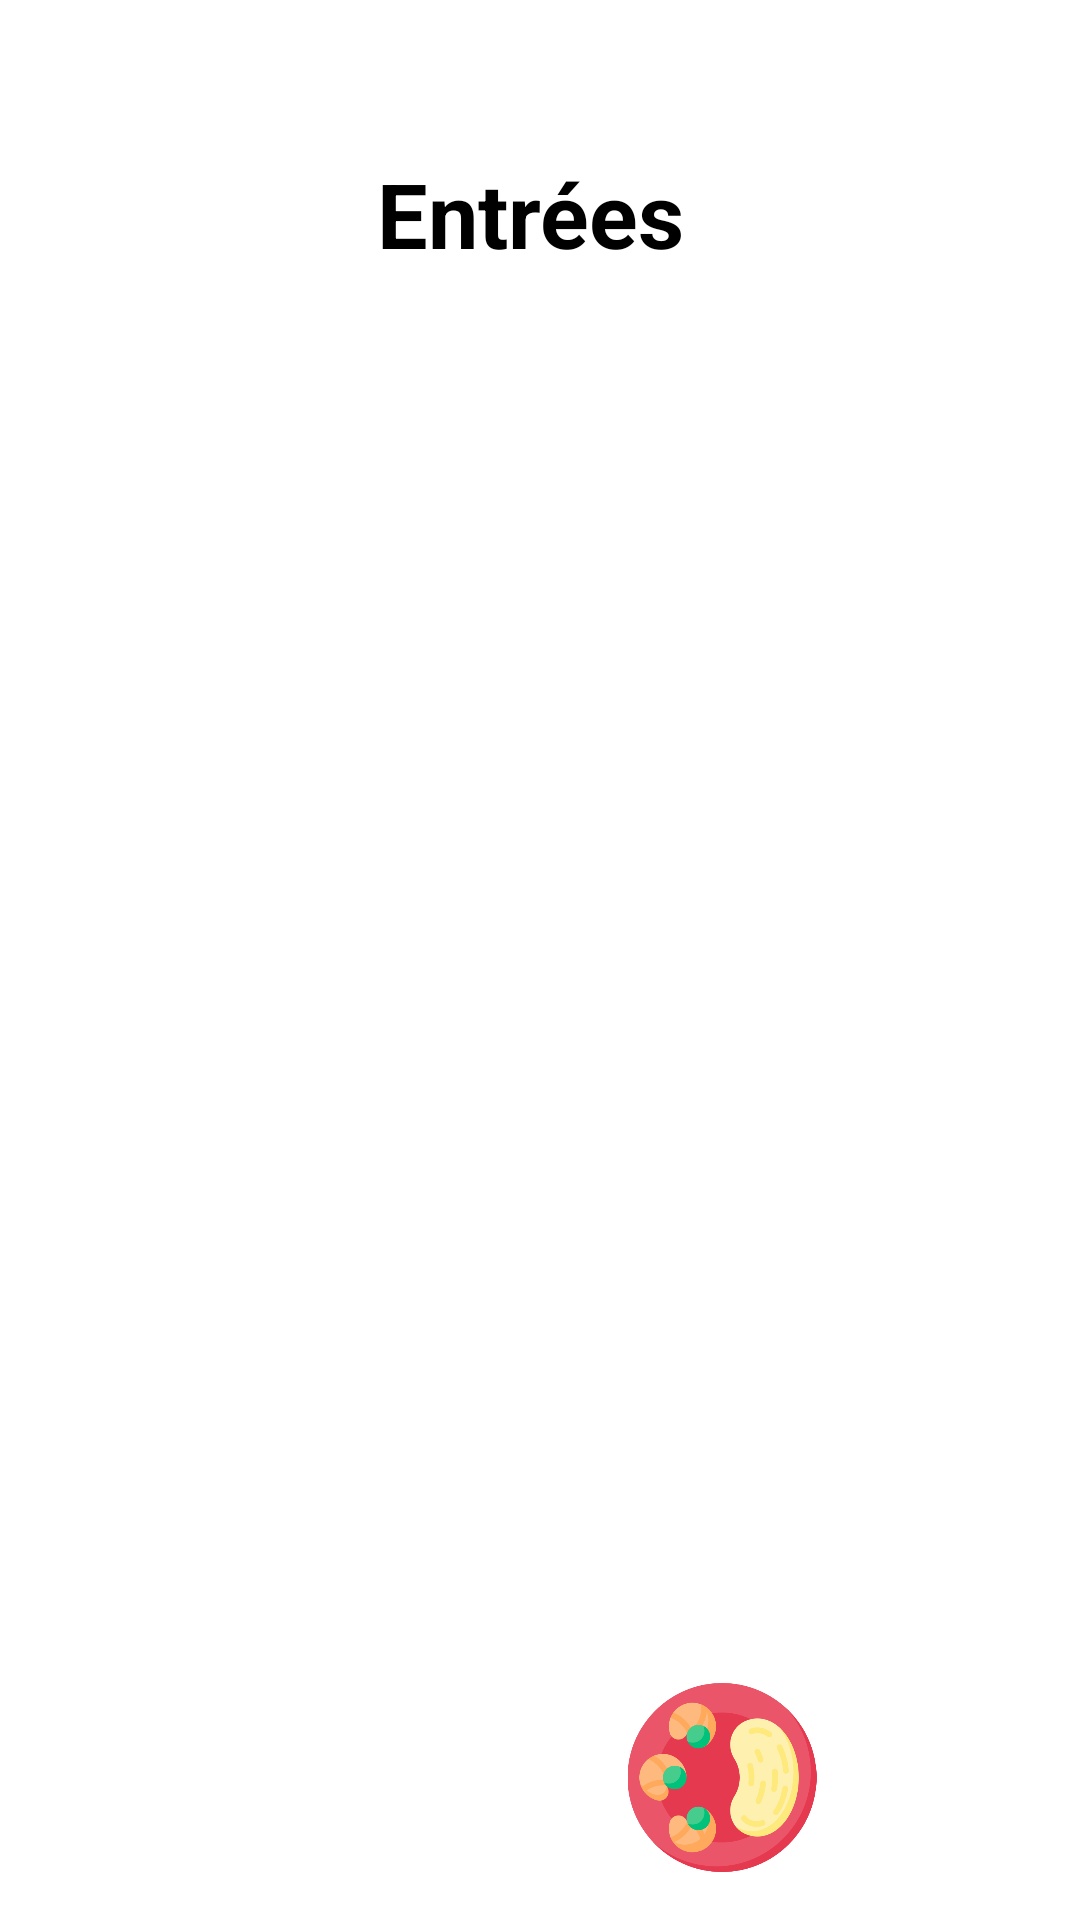

Screen size 1080*1920. Icon name, then its box in pixels as (x1, y1, x2, y2):
entree: (628, 1683, 817, 1872)
